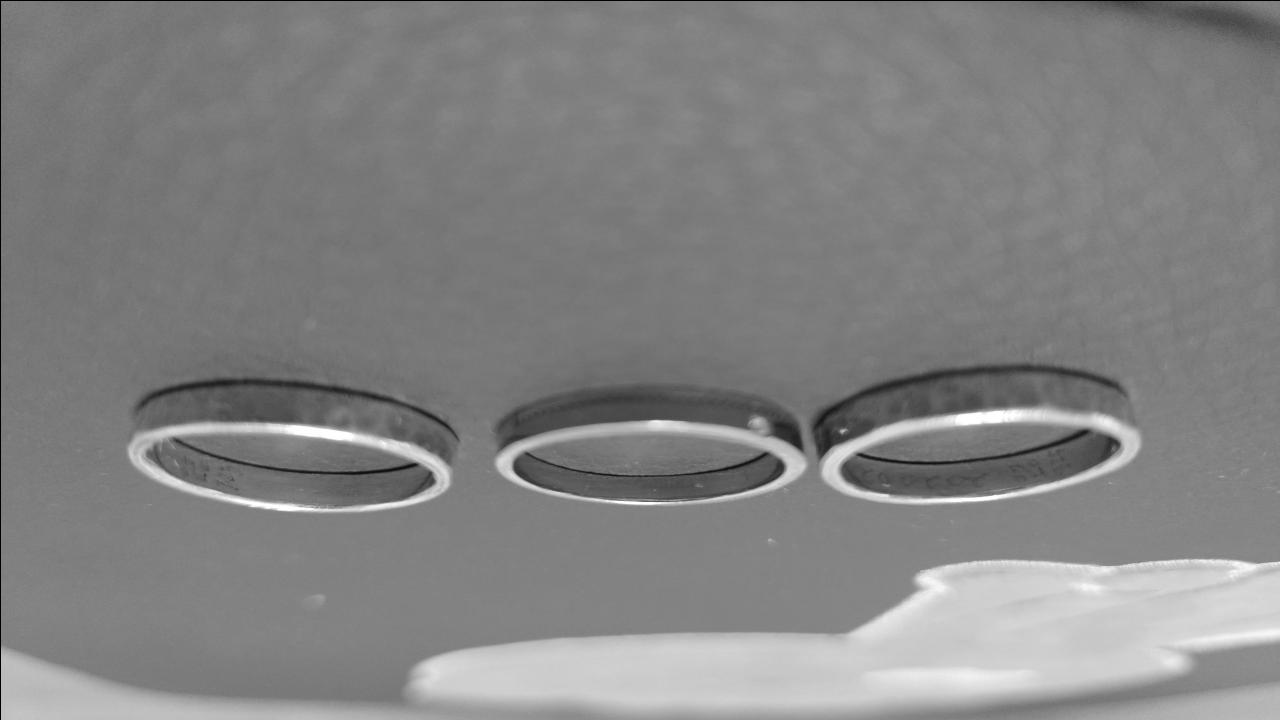ring: (811, 366, 1142, 504), (123, 383, 458, 513), (494, 392, 804, 507)
